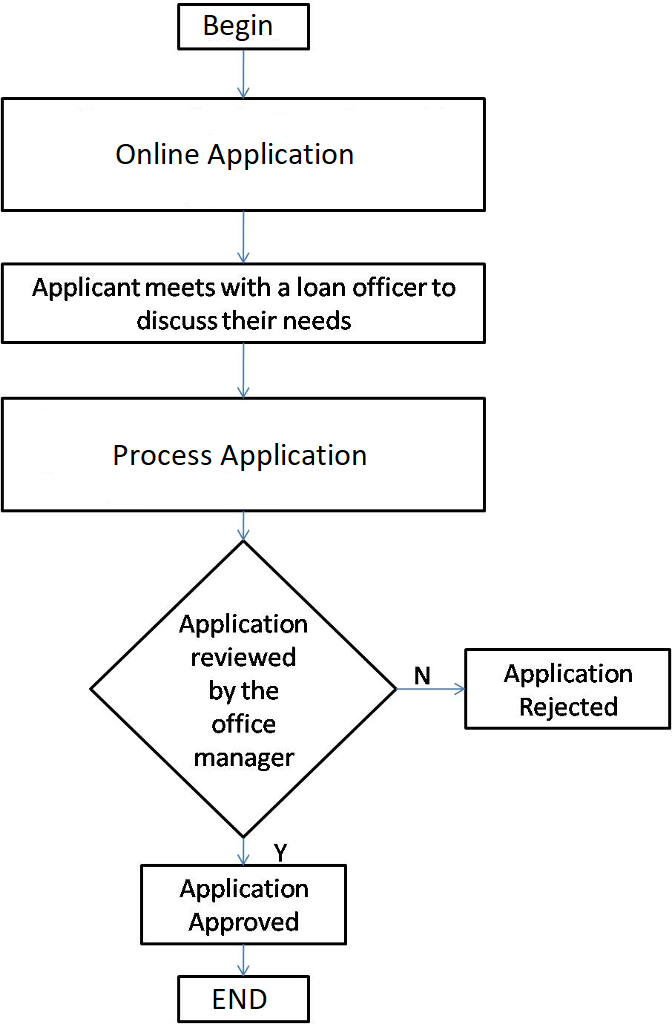arrow: (394, 680, 469, 700), (232, 44, 254, 99), (235, 339, 254, 399), (237, 208, 255, 269), (233, 938, 252, 980), (233, 507, 252, 547), (233, 833, 251, 866)
process: (1, 91, 493, 216), (1, 394, 490, 516), (2, 258, 493, 349), (135, 858, 352, 950), (460, 642, 672, 734), (174, 971, 316, 1024), (174, 1, 313, 53)
text: (24, 271, 460, 333), (176, 610, 312, 777), (110, 438, 369, 475), (108, 135, 358, 171), (497, 658, 637, 722), (177, 874, 310, 935), (199, 8, 277, 42), (207, 980, 269, 1013), (408, 660, 437, 688), (269, 838, 294, 866)
